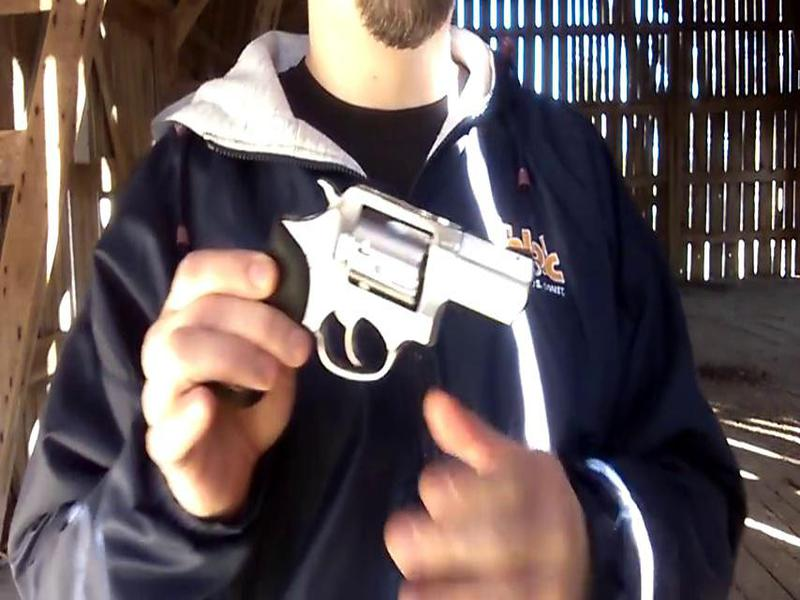Revolver: (167, 150, 537, 438)
